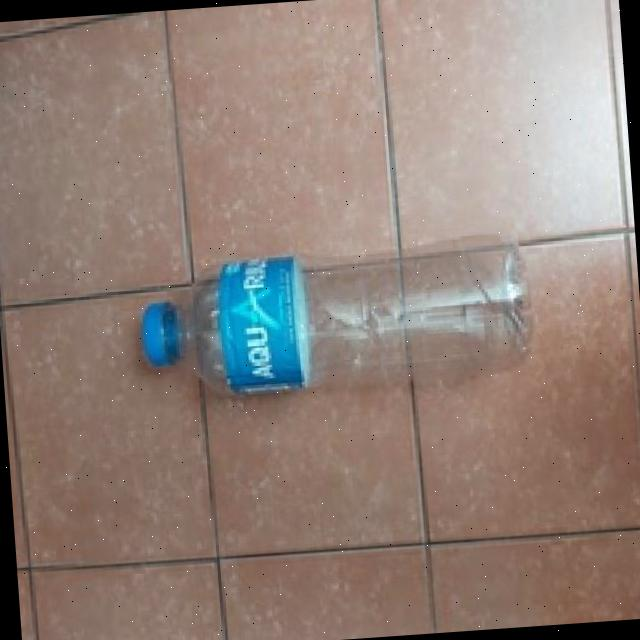bottle: (138, 232, 560, 404)
cap: (134, 294, 188, 371)
label: (200, 240, 312, 404)
